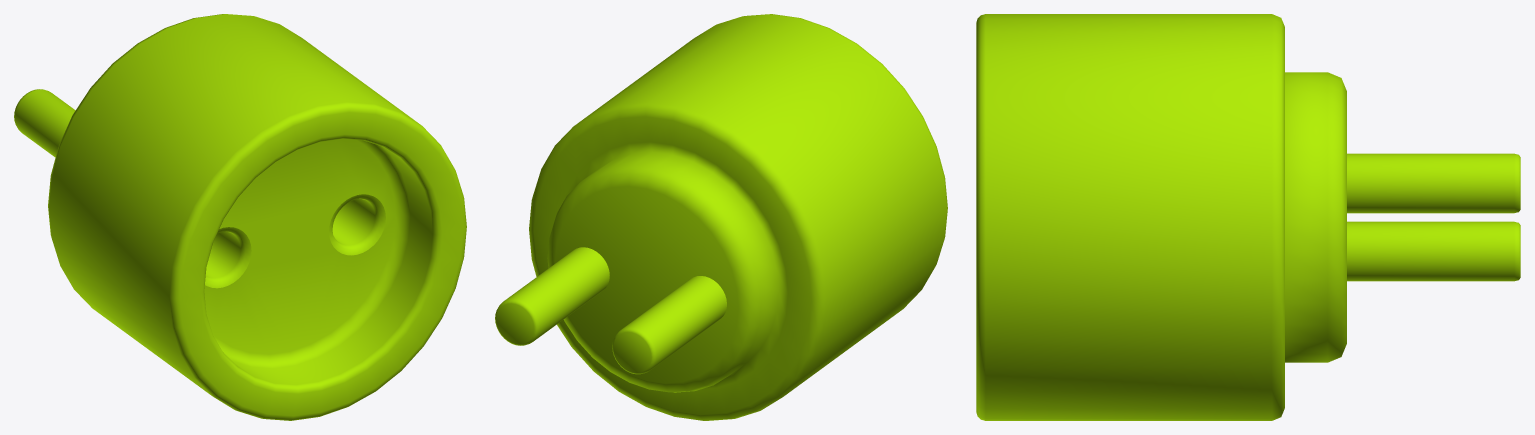
File: socket.glb
The picture shows the model from 3 angles, left to right: view 1: azimuth 30°, elevation 25°; view 2: azimuth 150°, elevation 25°; view 3: azimuth 270°, elevation 25°; orthographic projection. The views are drawn at different scales.
Visible parts, largest first — view 1: socket; view 2: socket; view 3: socket.
Part boxes in pixels (x1,y1,x2,y2): socket: [14, 14, 466, 420]; socket: [495, 14, 947, 420]; socket: [976, 14, 1520, 420].
Size of the model in its own units: 0.1007 by 0.1007 by 0.1346.
